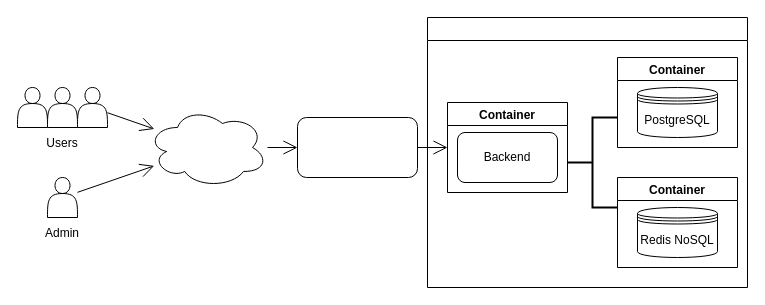
Some shapes in this 765 by 305 pixel diagram are drawn without their labels. The shapes that lost their labels are listed below. From the top down, each one's centre as x and y in pixels, then its label:
point 207,147: Internet
point 357,147: Telegram (Front end)
point 587,152: Virtual machine
